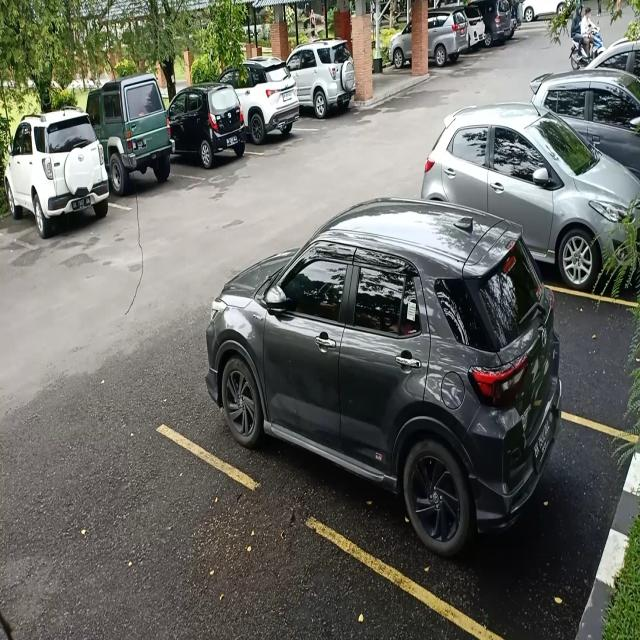occupied: (202, 287, 565, 563), (0, 136, 112, 250), (109, 97, 178, 213), (172, 95, 247, 182), (245, 74, 302, 157)
